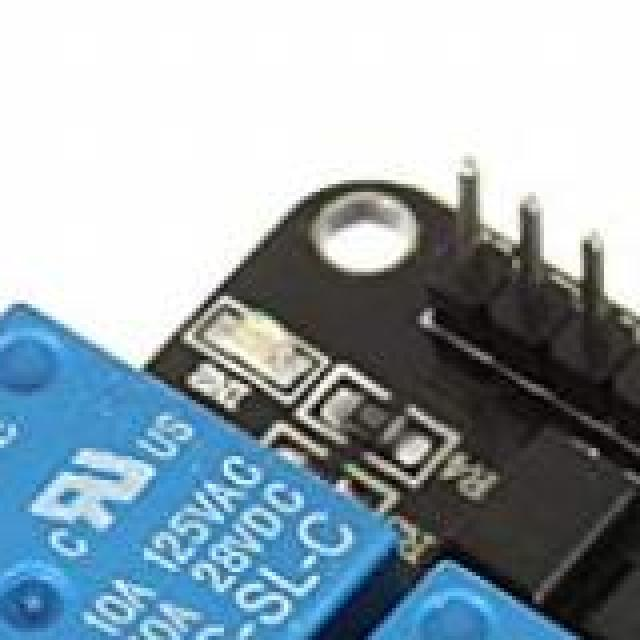IC: (456, 432, 630, 588), (584, 508, 640, 640)
LED: (208, 300, 314, 392)
connector: (436, 164, 640, 400)
relay: (0, 272, 475, 640), (369, 549, 585, 640)
resistor: (320, 372, 420, 460)
